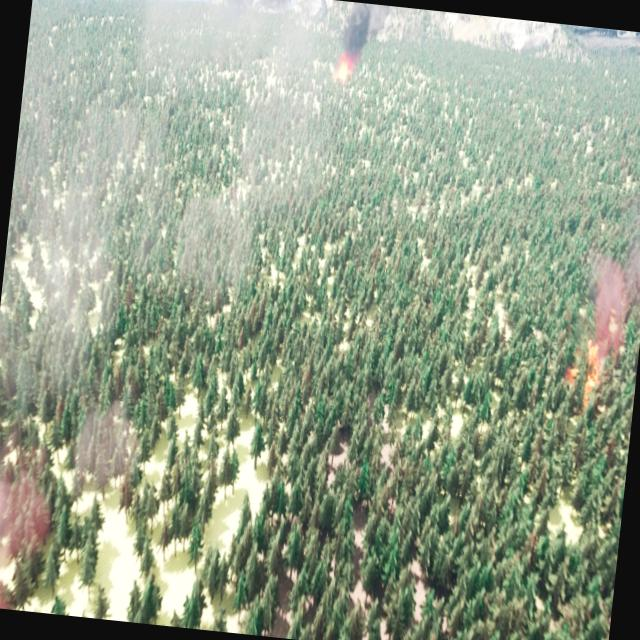fire: (561, 334, 606, 409)
smoke: (0, 0, 355, 637), (580, 237, 640, 354), (342, 1, 393, 54)
